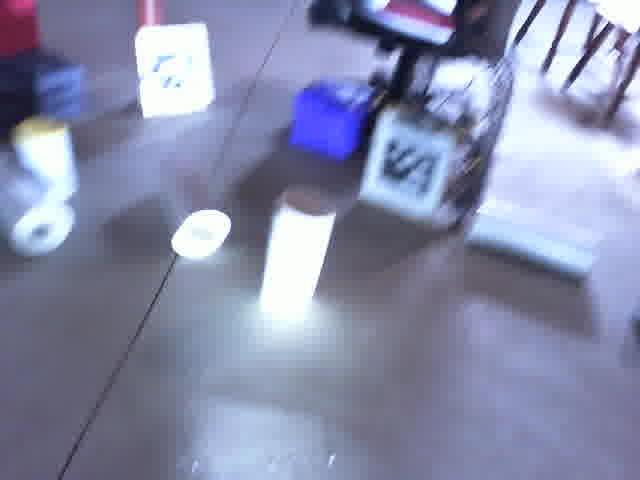coral: (259, 184, 335, 323), (151, 151, 233, 261)
